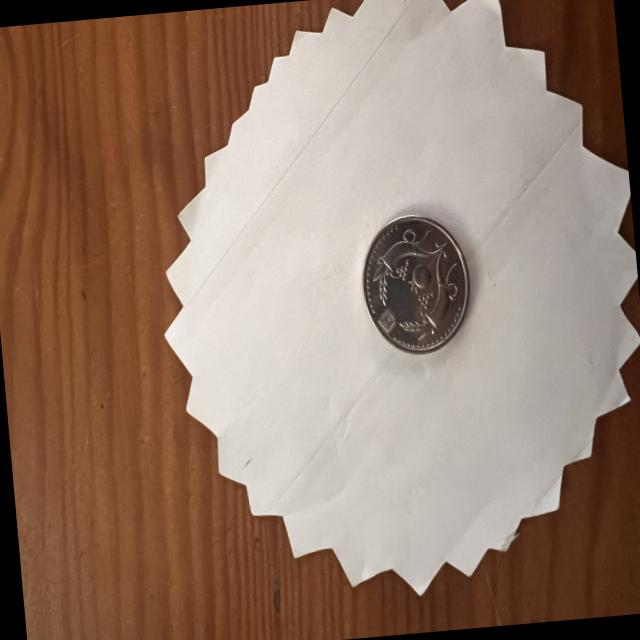2-shekel: (350, 208, 477, 360)
